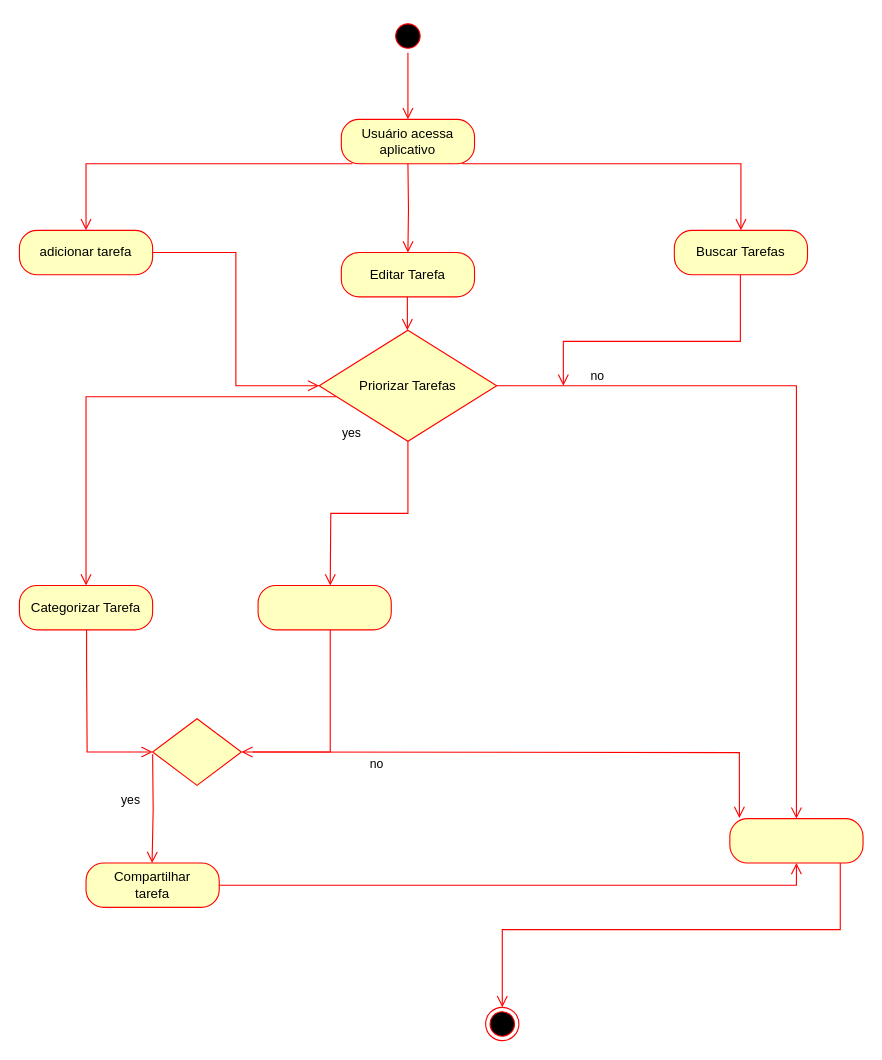
The diagram is 882 pixels wide and 1060 high, and some of its shapes have lost their labels. The box of each missing label's shape, as (x1, y1, x2, y2) in pixels:
Filtrar tarefa: (152, 718, 241, 785)
Marcar tarefa como cocluída: (729, 818, 863, 863)
Receber notificação tarefa pendente: (257, 584, 391, 630)
